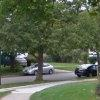Tree: (7, 0, 81, 51)
